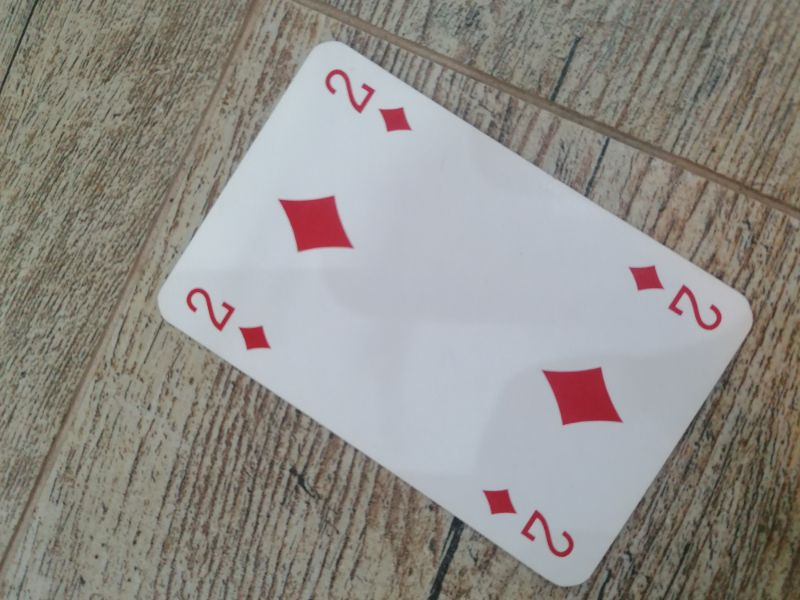2d: (478, 482, 579, 561), (625, 259, 727, 334), (320, 64, 419, 139), (184, 285, 276, 355)
